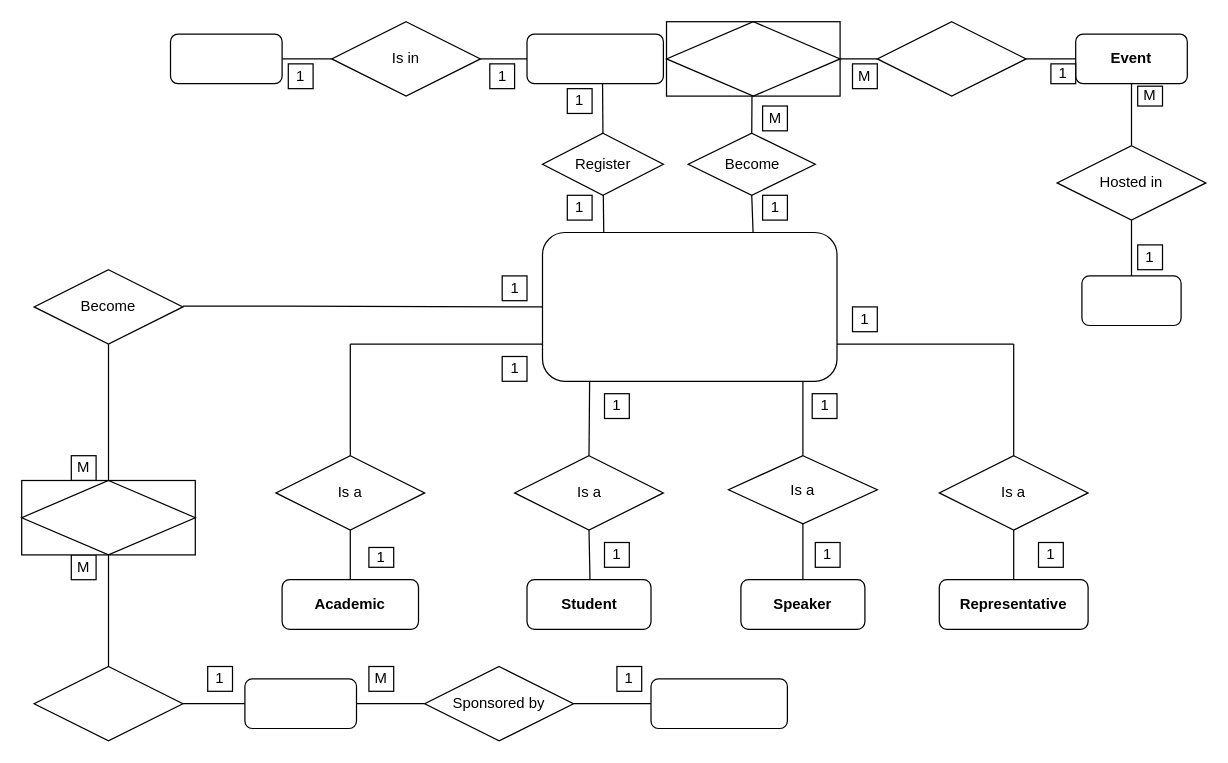
Image size: 1228x763. Some labels were removed from this diagram. Each missing label, with the centre of its shape:
"ModeType" belongs at (225,58).
"Paper" belongs at (300,703).
"PaperAuthor" belongs at (107,517).
"Participant" belongs at (689,306).
"ParticipantEvent" belongs at (752,58).
"Participates" belongs at (951,58).
"Registration" belongs at (594,58).
"Room" belongs at (1131,300).
"Sponsor" belongs at (718,703).
"Write" belongs at (108,703).
